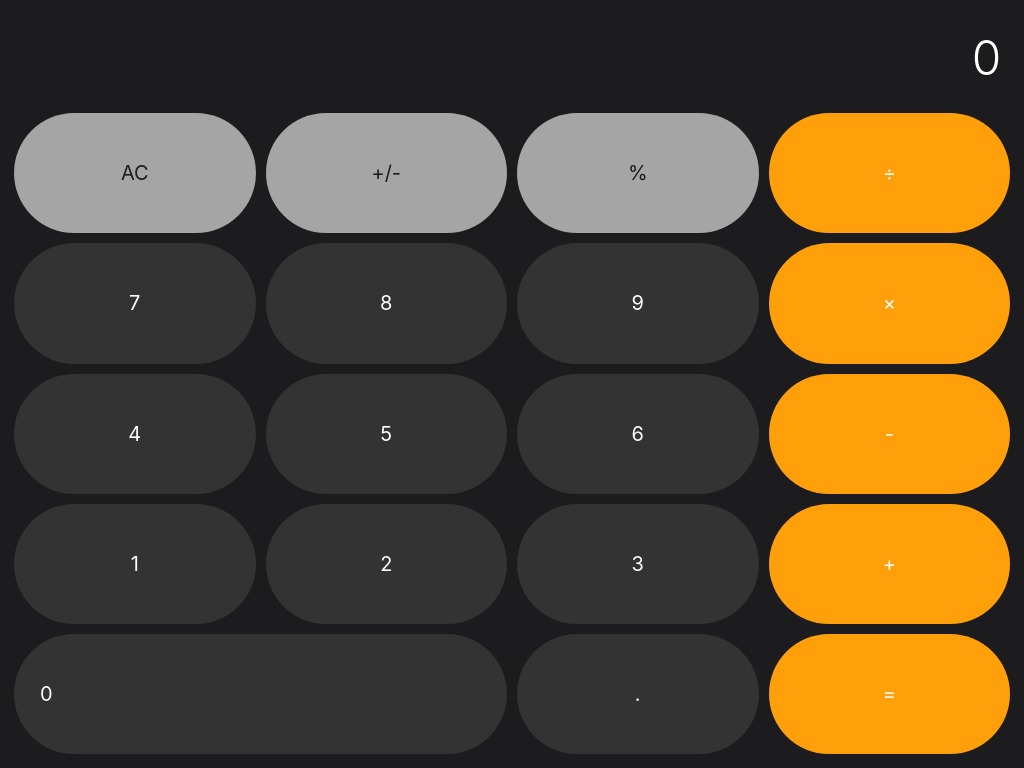
Scenario: Calculator › AC resets the display to 0
Step 1. Click the button "5" → click(386, 434), box [266,374,507,494]
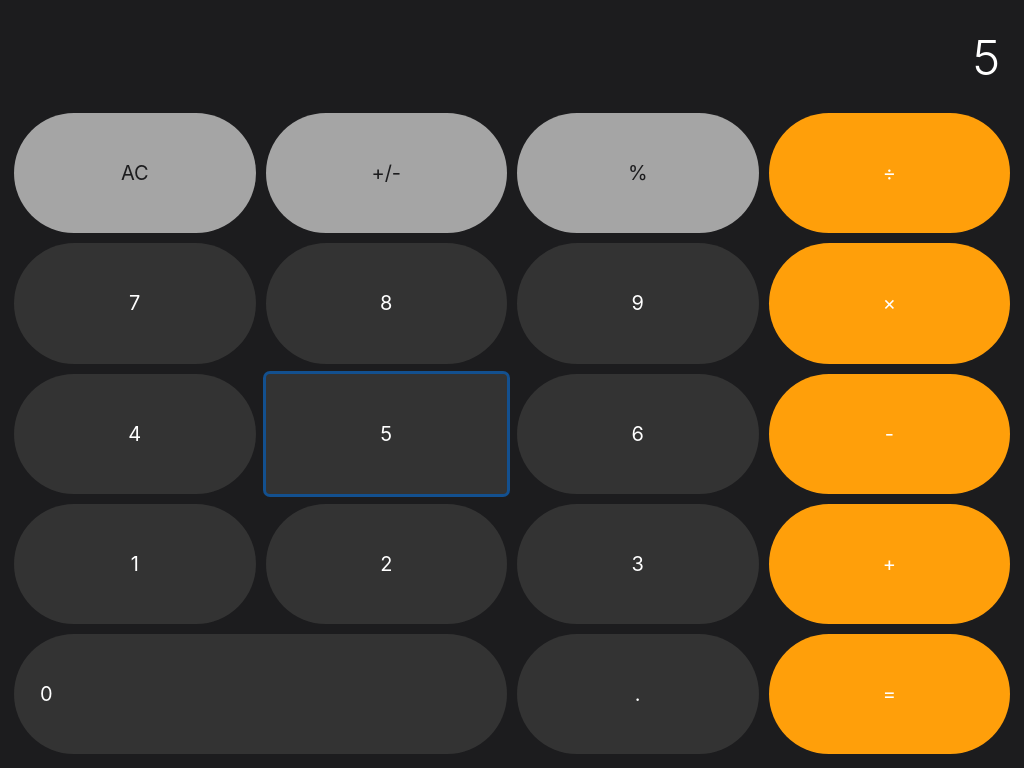
Result: the text with class "calculator-display" reads "5" at [971,28,1002,87]
Step 2. Click the button "AC" → click(135, 173), box [14,113,256,233]
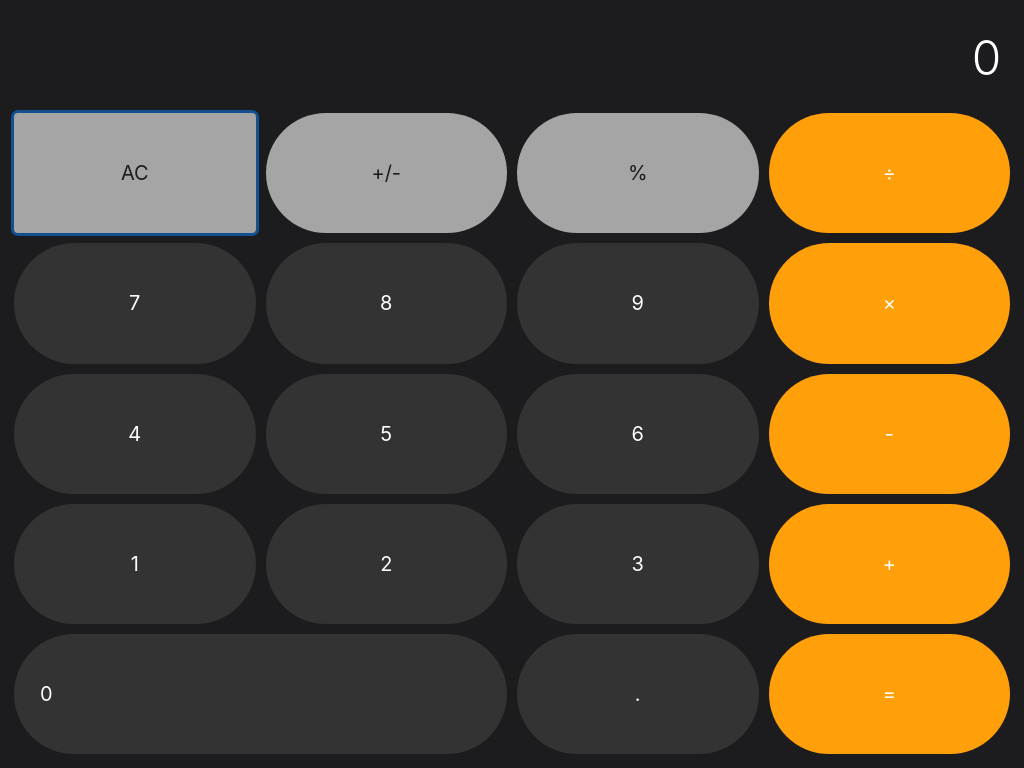
Result: the text with class "calculator-display" reads "0" at [971,28,1002,87]
